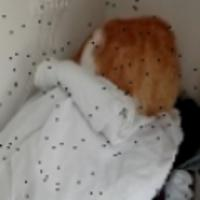asleep: (69, 17, 186, 118)
